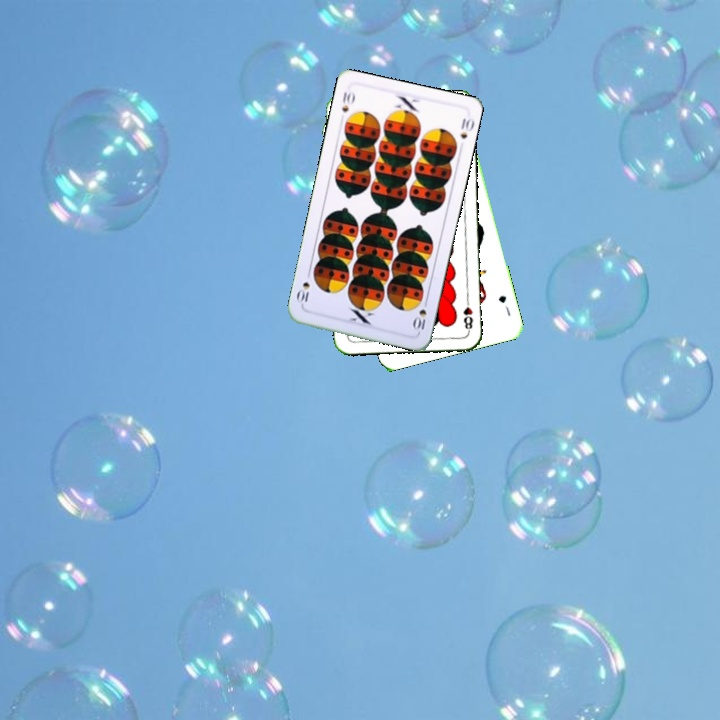GU: (494, 291, 513, 318)
H8: (459, 294, 476, 335)
S10: (409, 295, 430, 335), (338, 88, 357, 116)
